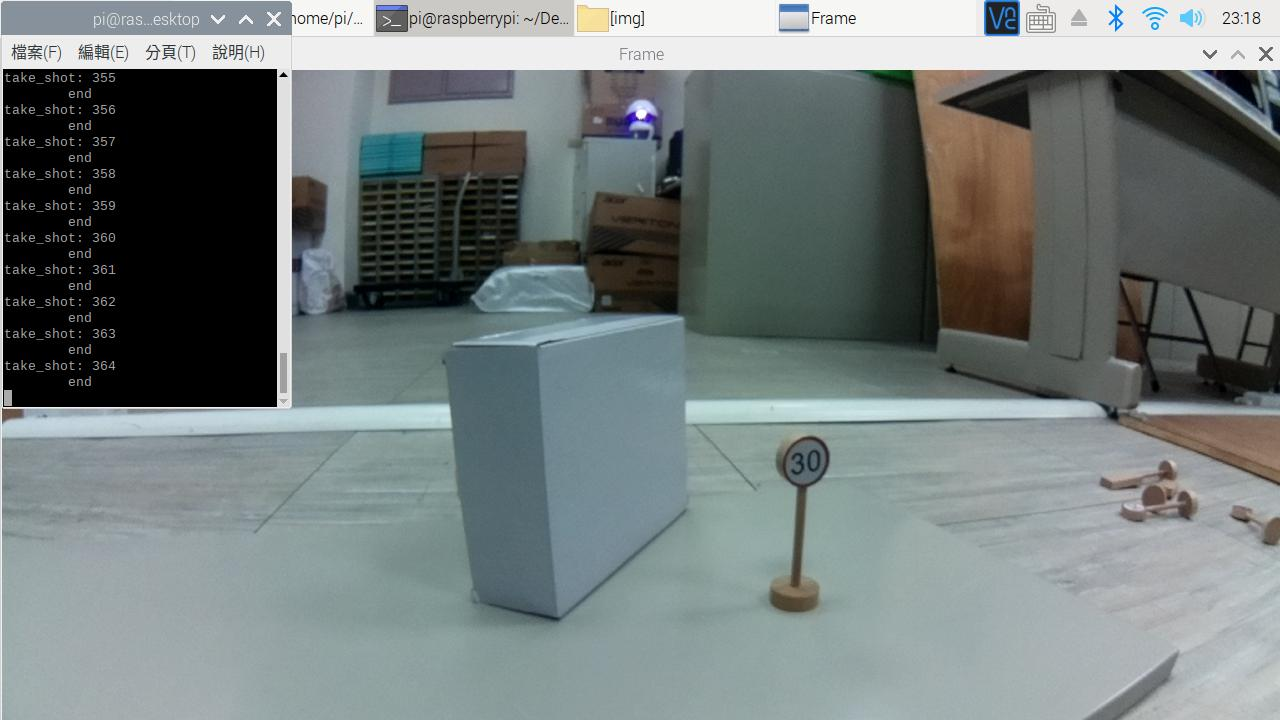Speed30: (770, 433, 855, 507)
